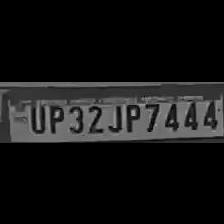2: (86, 100, 104, 134)
3: (64, 100, 84, 132)
4: (198, 93, 218, 127), (159, 98, 179, 130), (180, 95, 198, 129)
7: (142, 98, 160, 132)
J: (106, 99, 122, 131)
P: (122, 100, 142, 132), (46, 100, 64, 134)
U: (26, 99, 44, 134)
